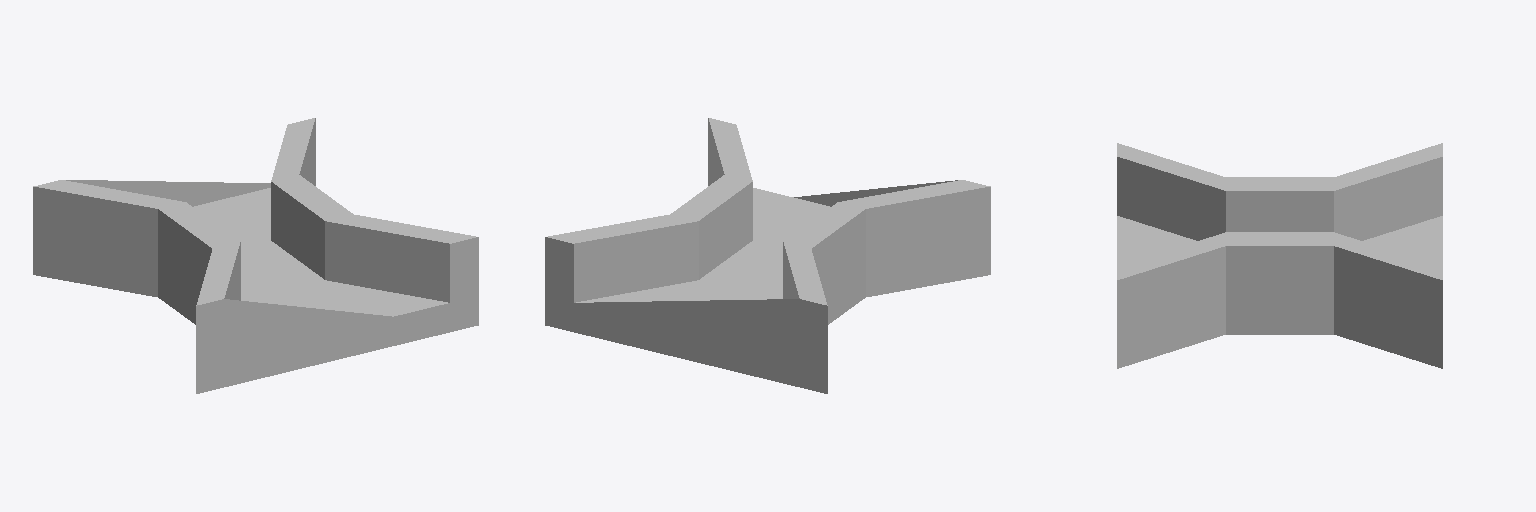
File: ThickThinThick_.obj
3 renders of one model, left to right at view 1: azimuth 30°, elevation 25°; view 2: azimuth 150°, elevation 25°; view 3: azimuth 270°, elevation 25°, orthographic.
Visible parts, largest first — view 1: ThickThinThick_; view 2: ThickThinThick_; view 3: ThickThinThick_.
Boxes of the visible parts, box(x1,y1,x2,y2) form: ThickThinThick_: box(33, 118, 478, 393); ThickThinThick_: box(545, 118, 990, 393); ThickThinThick_: box(1117, 143, 1442, 368).
Size of the model in its own units: 2 by 0.6 by 2.